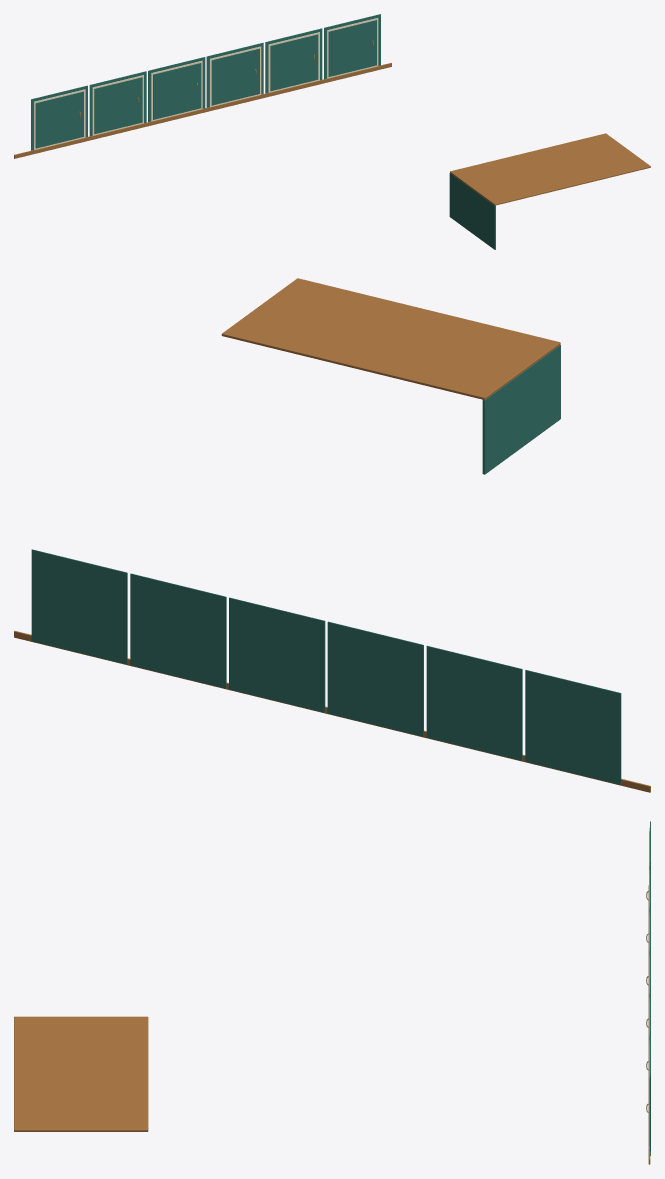
File: accident-setting-light.glb
The picture shows the model from 3 angles, top to bottom: view 1: azimuth 30°, elevation 25°; view 2: azimuth 150°, elevation 25°; view 3: azimuth 270°, elevation 25°; orthographic projection. The views are drawn at different scales.
Visible parts, largest first — view 1: teal, wood, ivory; view 2: teal, wood; view 3: wood, teal.
Boxes of the visible parts, x1=… form: teal: x1=31, y1=14, x2=495, y2=249; wood: x1=14, y1=63, x2=650, y2=205; ivory: x1=34, y1=18, x2=378, y2=149; teal: x1=31, y1=345, x2=621, y2=784; wood: x1=14, y1=278, x2=650, y2=792; wood: x1=14, y1=885, x2=650, y2=1164; teal: x1=649, y1=821, x2=650, y2=1155.
Size of the model in its own units: 130 by 16.15 by 114.
